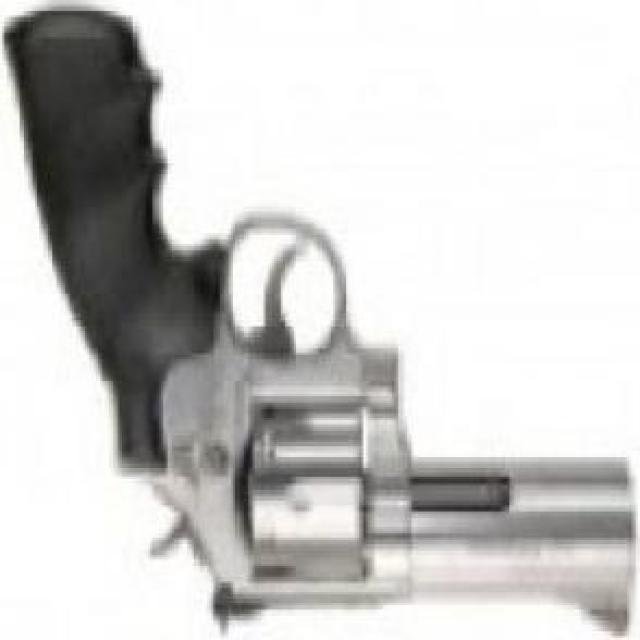pistol: (6, 9, 627, 636)
